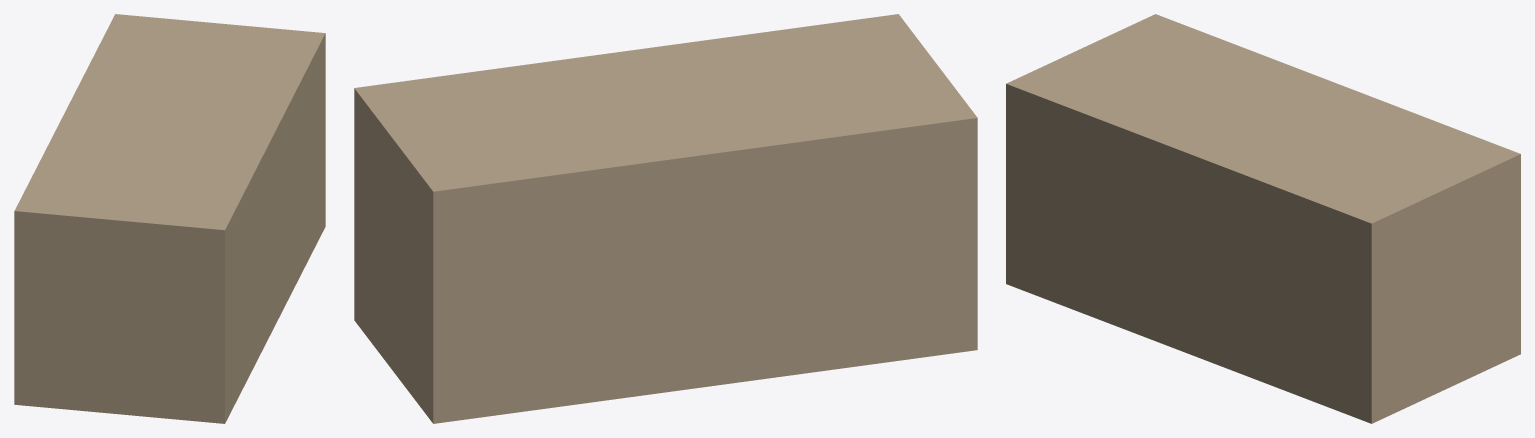
File: bld_101374641.dae
3 renders of one model, left to right at view 1: azimuth 30°, elevation 25°; view 2: azimuth 150°, elevation 25°; view 3: azimuth 270°, elevation 25°, orthographic. The views are drawn at different scales.
Visible parts, largest first — view 1: bld_101374641; view 2: bld_101374641; view 3: bld_101374641.
Part boxes in pixels (x1=…): bld_101374641: x1=14, y1=14, x2=325, y2=423; bld_101374641: x1=354, y1=14, x2=977, y2=423; bld_101374641: x1=1006, y1=14, x2=1520, y2=423.
Size of the model in its own units: 17.96 by 18.64 by 8.
